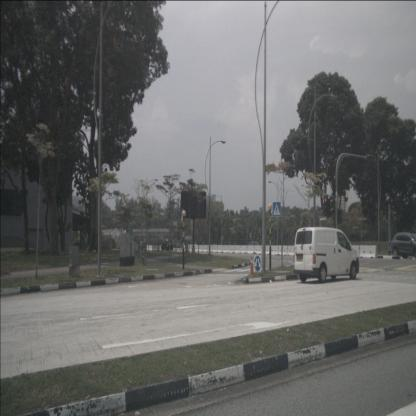barrier: (359, 245, 377, 259), (346, 244, 360, 258), (278, 246, 287, 256), (287, 246, 296, 256), (254, 245, 262, 254), (270, 246, 278, 255), (262, 245, 270, 254), (247, 245, 254, 254), (240, 246, 247, 254), (234, 246, 240, 254), (228, 246, 234, 254), (217, 245, 223, 253), (186, 244, 192, 252), (223, 245, 228, 253), (198, 245, 203, 252), (207, 245, 212, 252), (212, 245, 217, 252), (203, 245, 208, 252), (194, 245, 199, 251)
cone: (249, 257, 254, 278)
